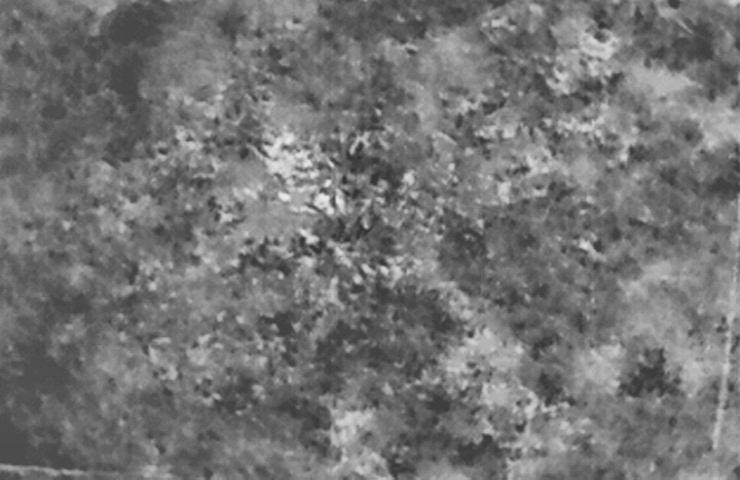landmines: (261, 125, 343, 205)
